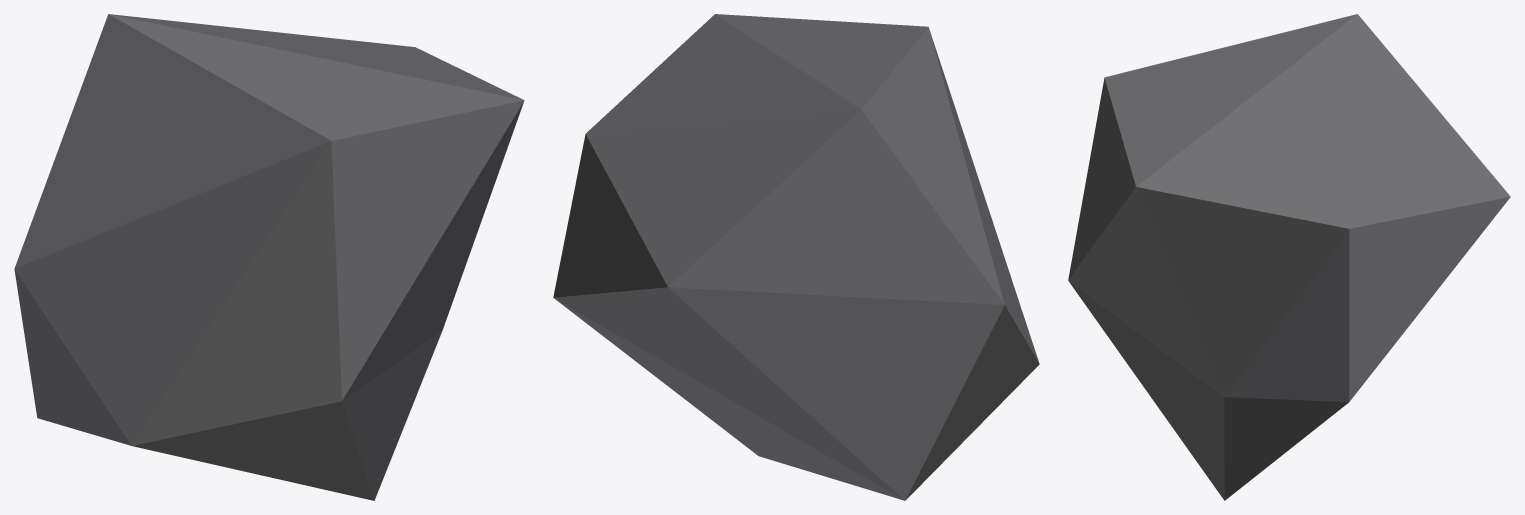
Rendered from Roca A.fbx.
The picture shows the model from 3 angles, left to right: view 1: azimuth 30°, elevation 25°; view 2: azimuth 150°, elevation 25°; view 3: azimuth 270°, elevation 25°; orthographic projection. The views are drawn at different scales.
Parts seen in each view (by area): view 1: polySurface499; view 2: polySurface499; view 3: polySurface499.
Part boxes in pixels (x1,y1,x2,y2): polySurface499: (14, 14, 524, 500); polySurface499: (553, 14, 1039, 500); polySurface499: (1068, 14, 1510, 500).
Size of the model in its own units: 1.11 by 1.1 by 1.08.
